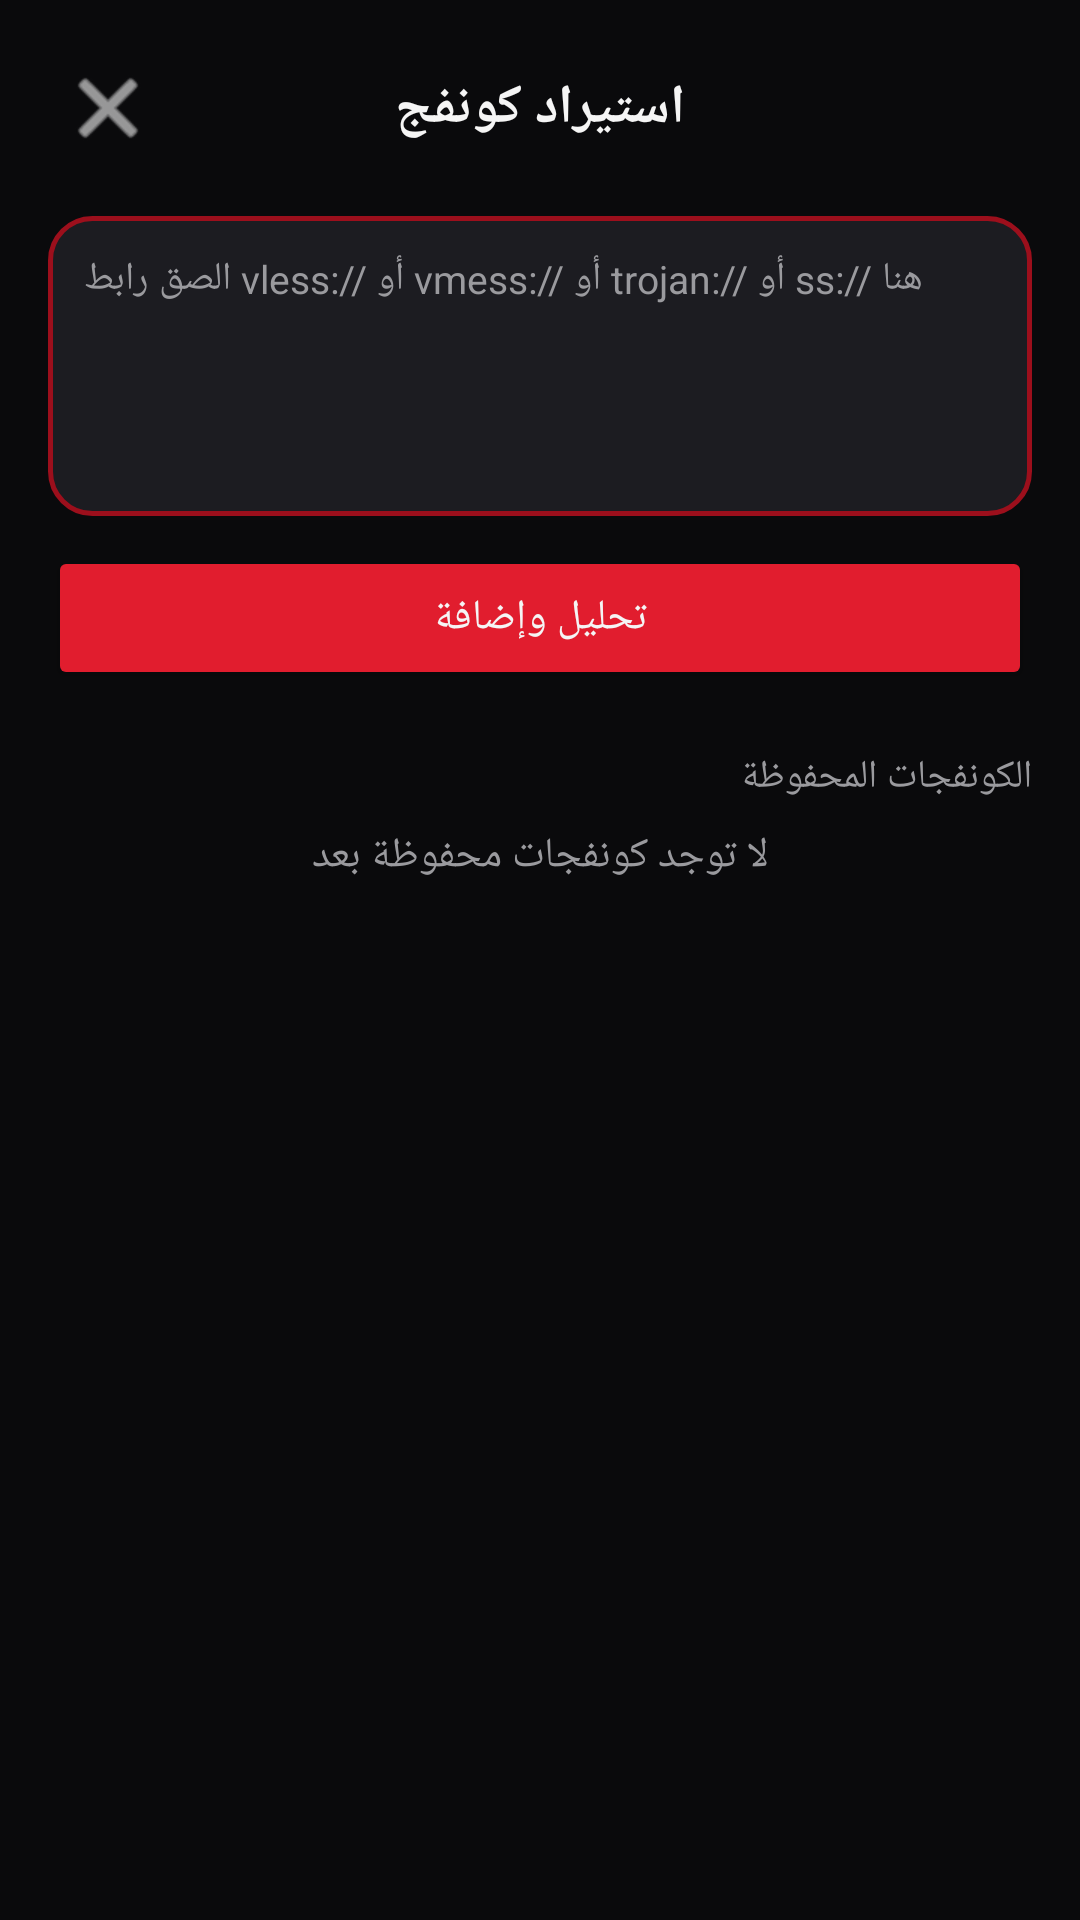

Screen size 1080px×1920px. Icon name, then its center in pixels as point (x, y):
close clear cancel: point (108, 108)
